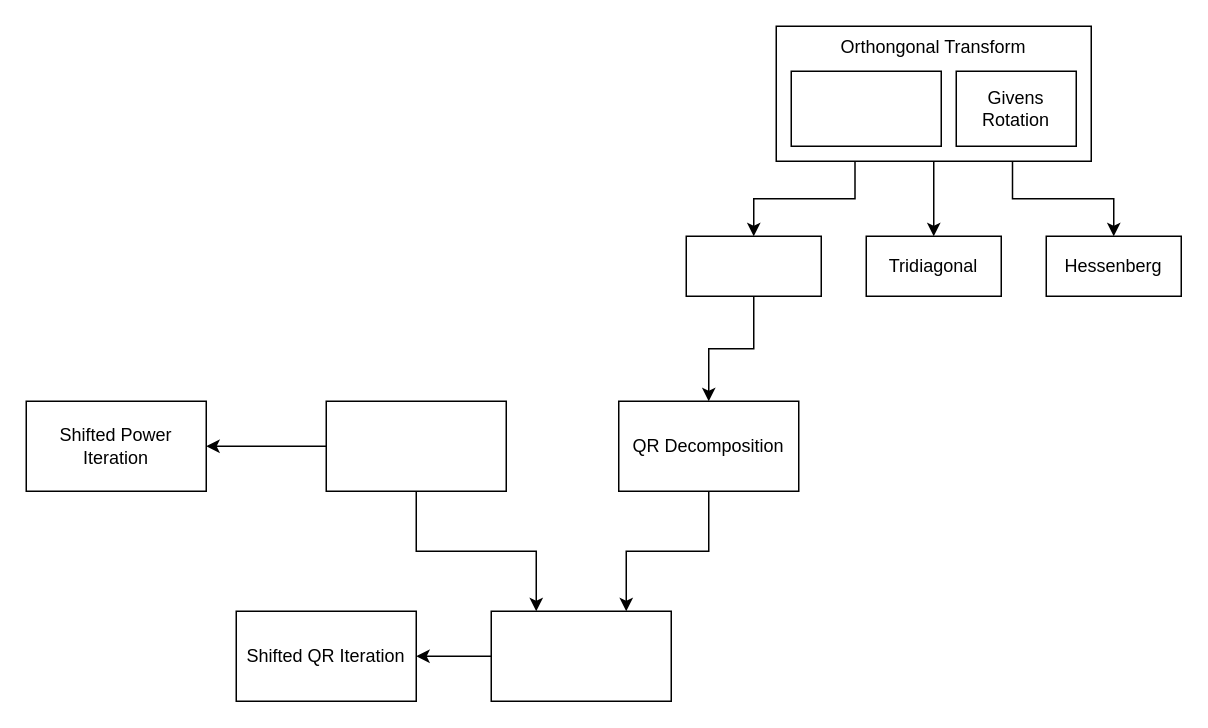
This 1208x728 diagram has some shape labels left out. The centre of each missing label's shape, as x and y in pixels:
"Householder Reflection" goes at point (865, 108).
"Power Iteration" goes at point (415, 445).
"QR Iteration" goes at point (580, 655).
"Upper/lower Trianglize" goes at point (753, 265).
